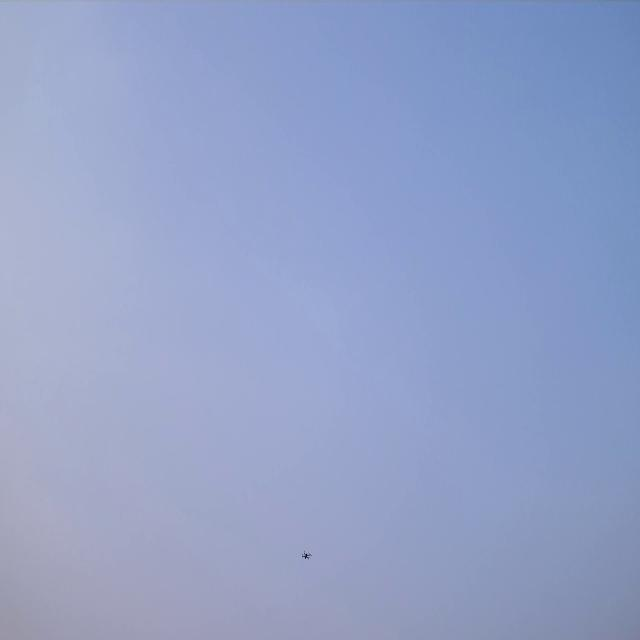UAV: (301, 549, 312, 562)
